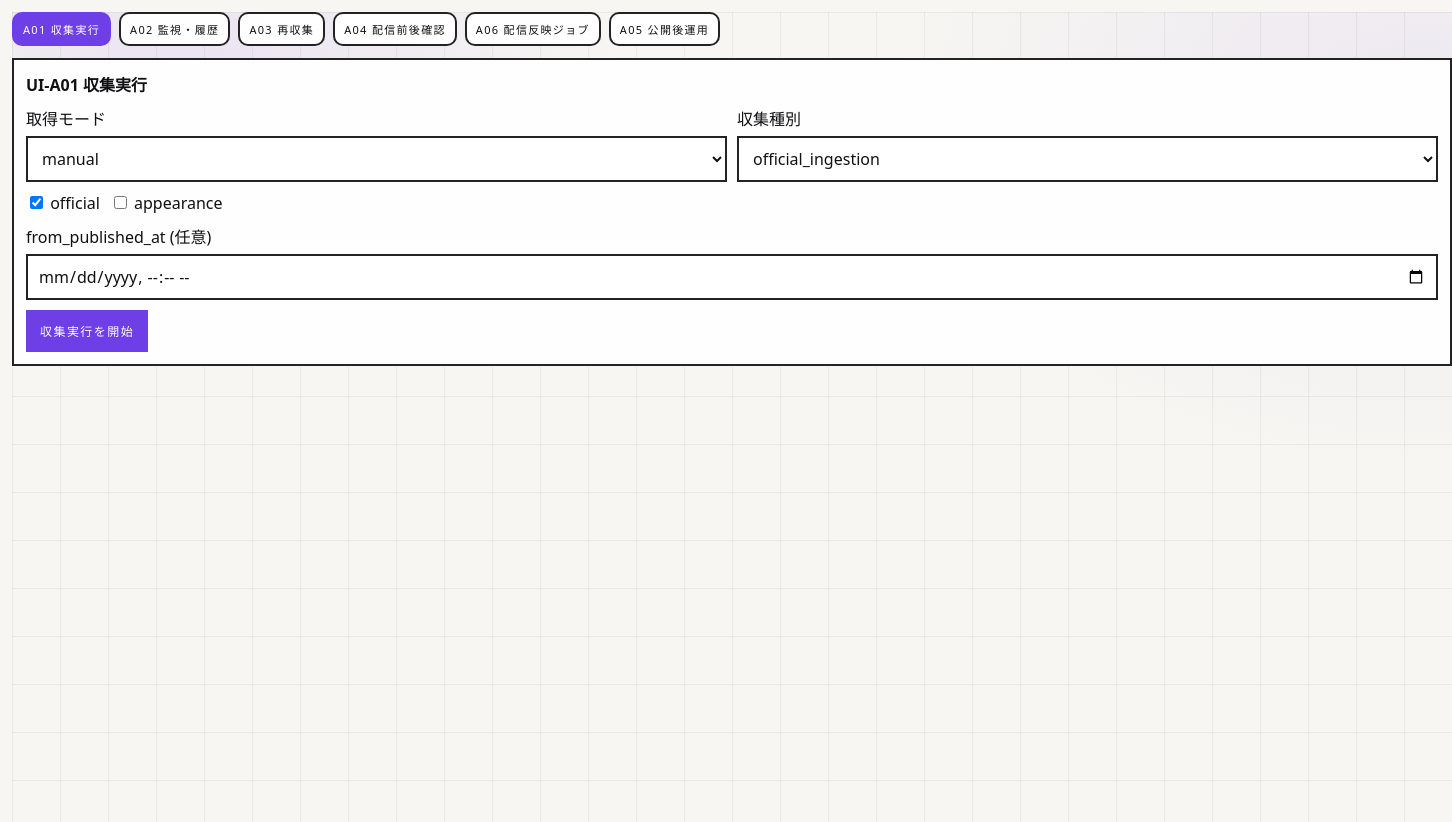
AdminPanel › [UT-PW-FE-UI-A02-C001] A02 refreshes run list and fetches run items
Click the tab "A02 監視・履歴" at point(175, 29), box [119,12,230,46]
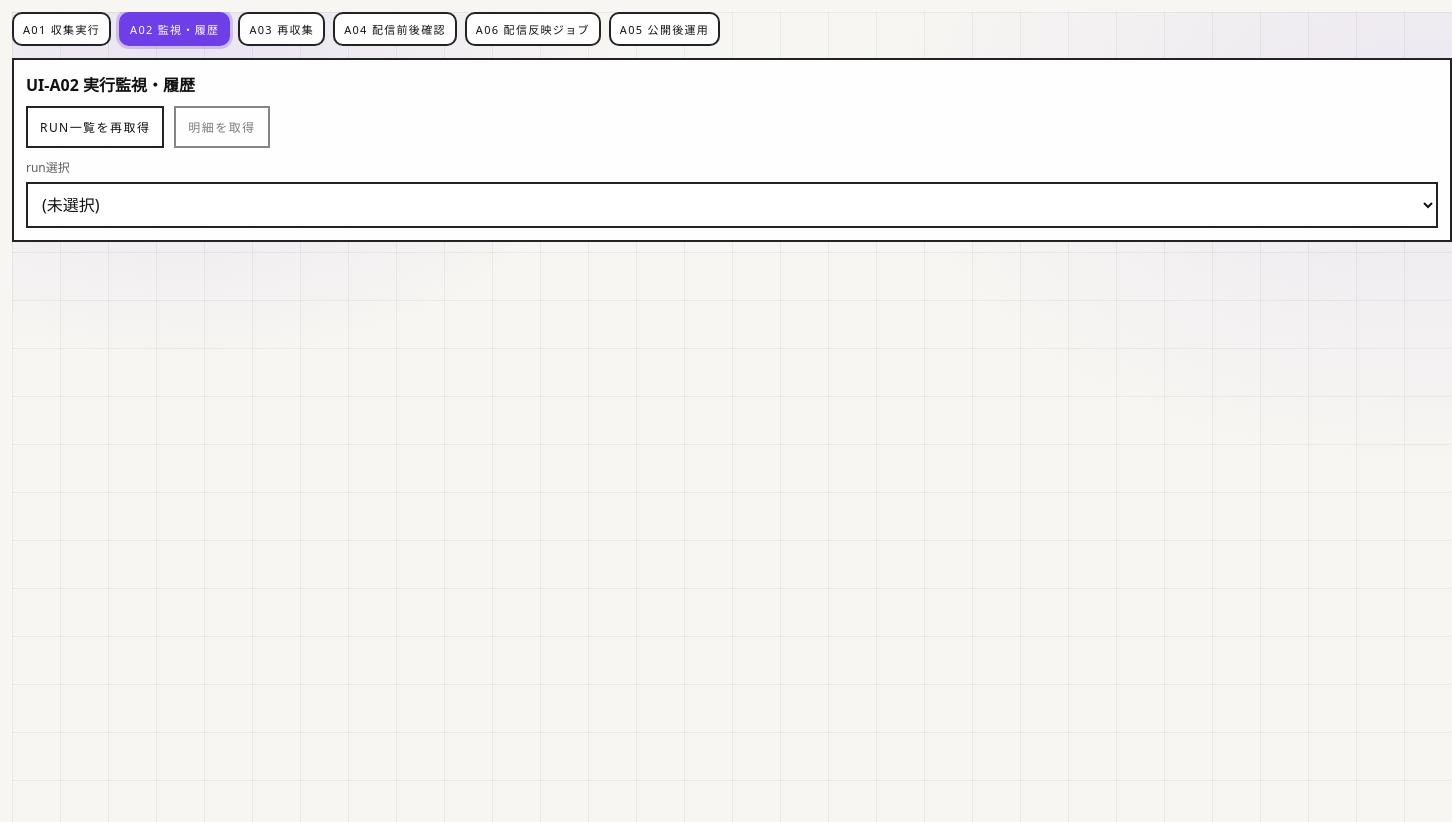
Click the button "run一覧を再取得" at point(95, 127), box [26,106,164,148]
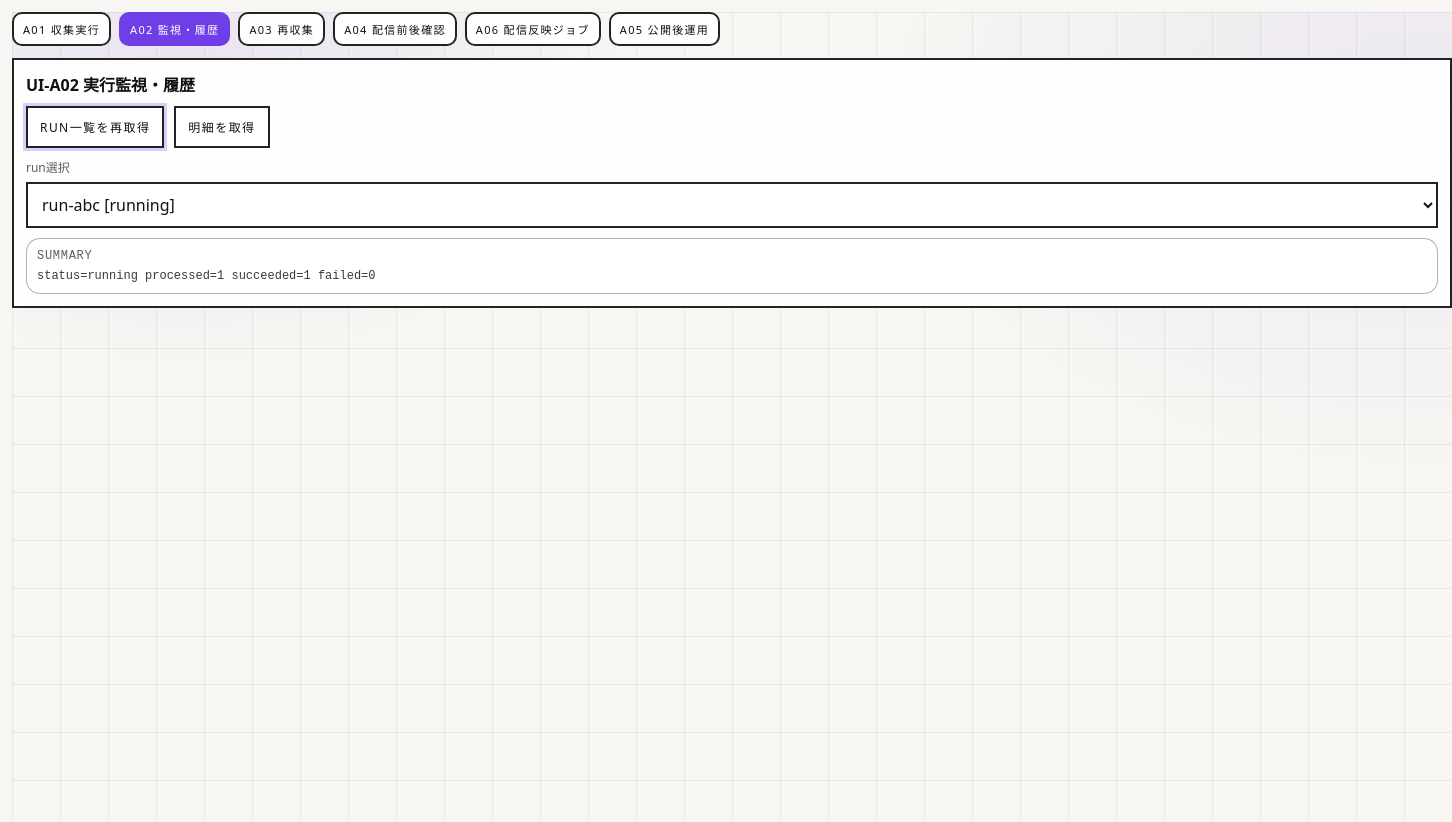
Click the button "明細を取得" at point(222, 127), box [174,106,270,148]
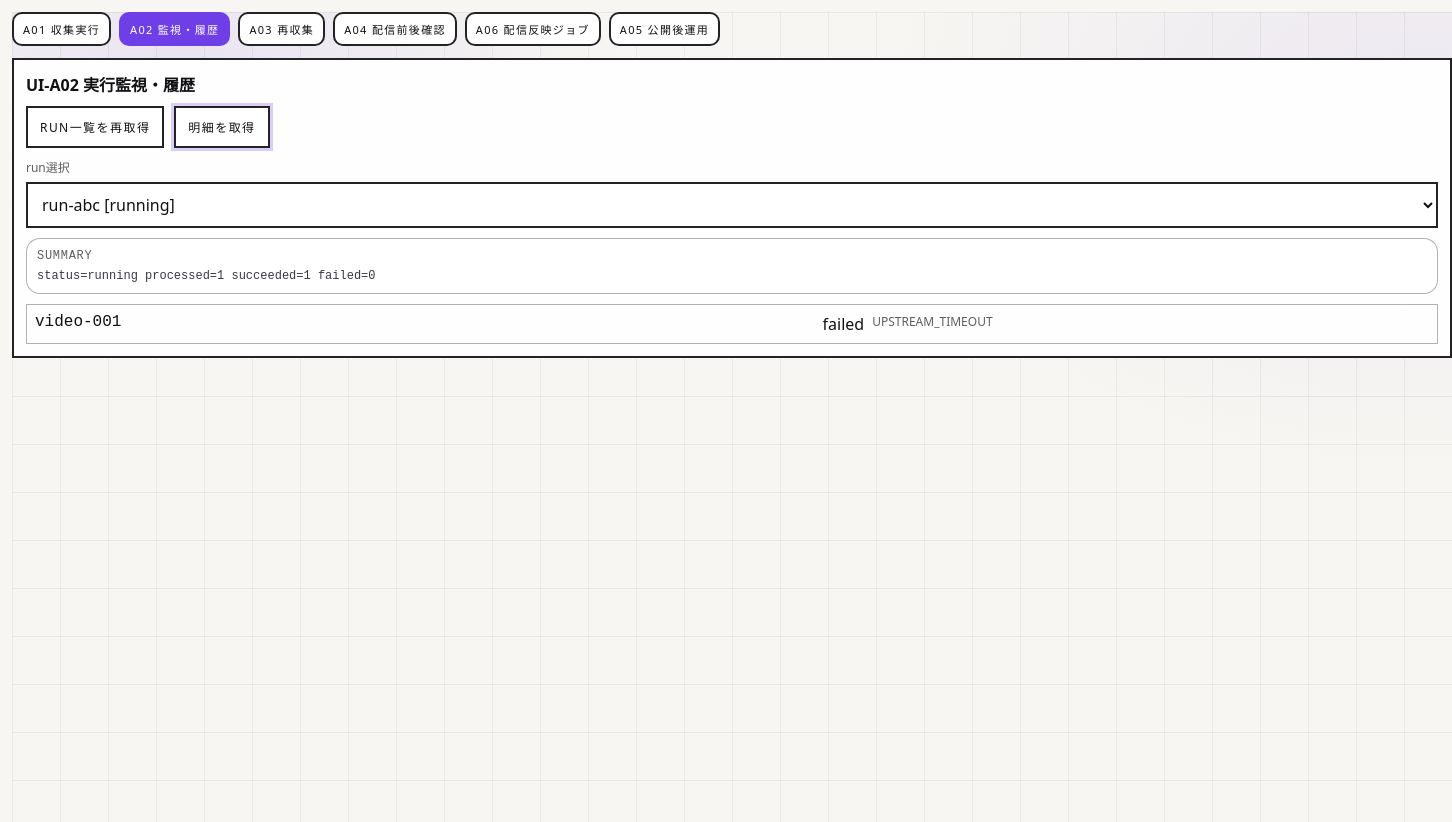
Expected: the text "video-001" is shown, [35,313,121,331]
